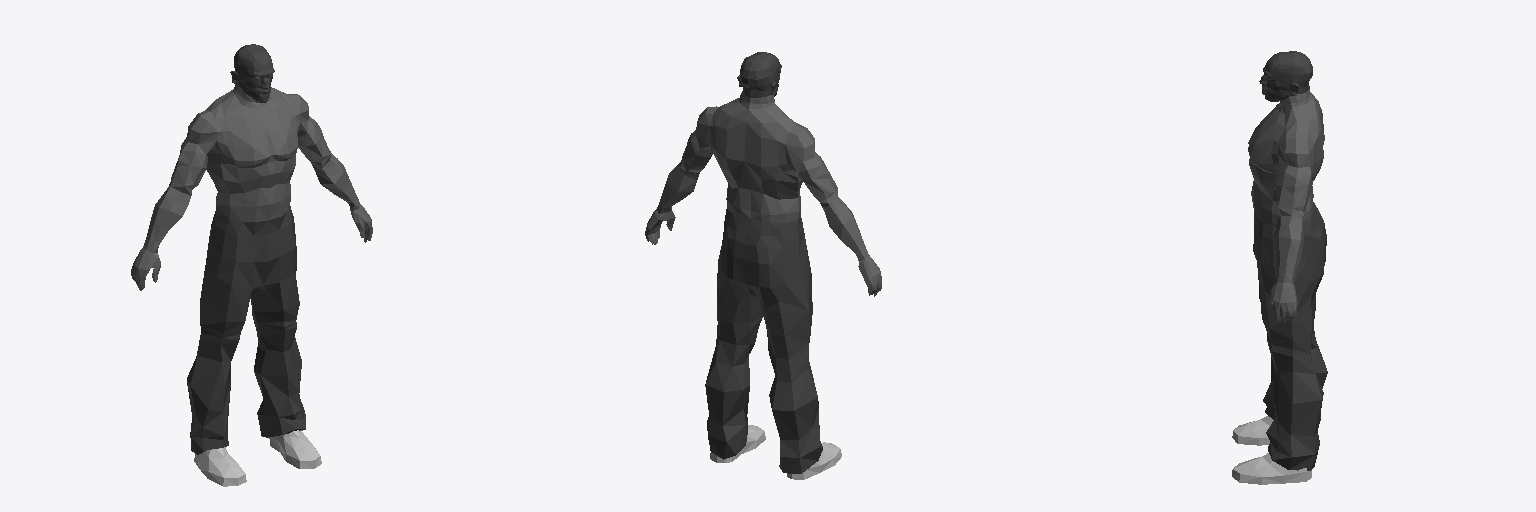
3 renders of one model, left to right at view 1: azimuth 30°, elevation 25°; view 2: azimuth 150°, elevation 25°; view 3: azimuth 270°, elevation 25°, orthographic.
Visible parts, largest first — view 1: legs, torso, shoes, head; view 2: legs, torso, head, shoes; view 3: legs, torso, shoes, head.
Part boxes in pixels (x1,y1,x2,y2): legs: (187, 206, 305, 454); torso: (131, 83, 372, 290); shoes: (194, 430, 321, 486); head: (230, 44, 274, 102); legs: (705, 209, 822, 473); torso: (645, 91, 881, 296); head: (737, 52, 781, 97); shoes: (710, 425, 841, 479); legs: (1253, 202, 1327, 470); torso: (1248, 89, 1324, 324); shoes: (1232, 416, 1311, 484); head: (1259, 51, 1312, 101).
Bounding box in the file's own units: 40.78 × 68.25 × 14.56.